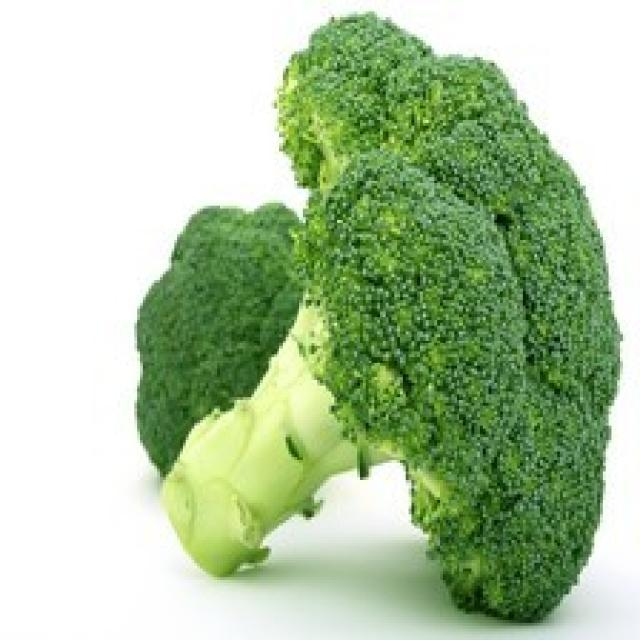broccoli: (130, 10, 618, 617)
